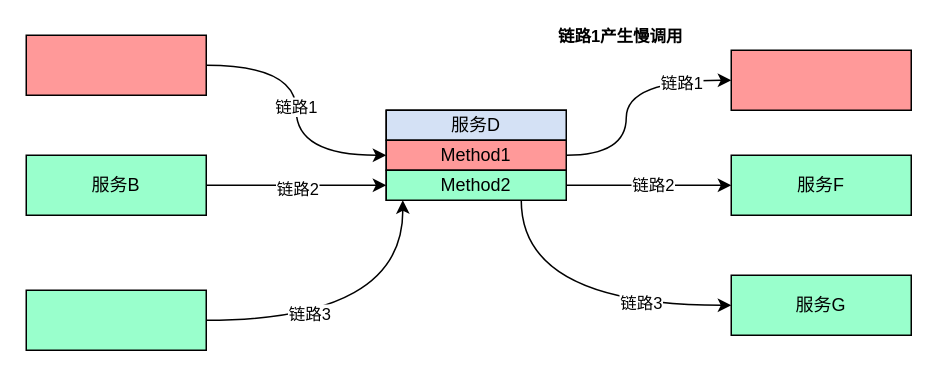
This 938x377 diagram has some shape labels left out. The centre of each missing label's shape, as x and y in pixels:
服务A: point (115, 64)
服务C: point (115, 319)
服务E: point (820, 79)
